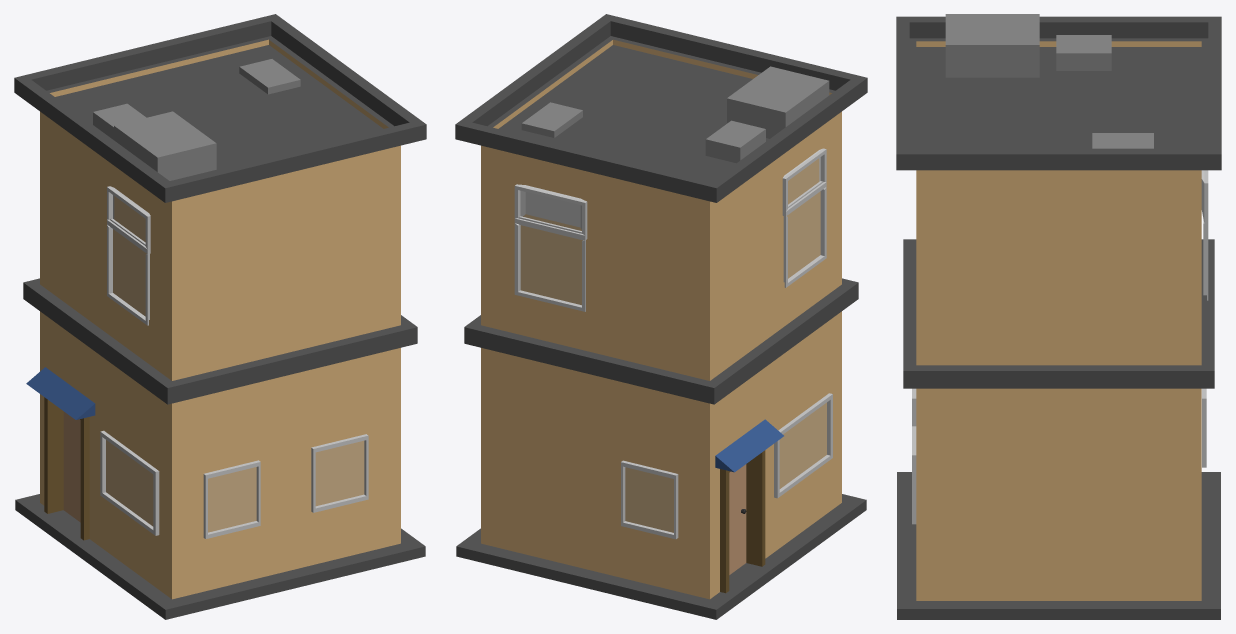
File: Haus - Hoch 2.gltf
3 renders of one model, left to right at view 1: azimuth 30°, elevation 25°; view 2: azimuth 150°, elevation 25°; view 3: azimuth 270°, elevation 25°, orthographic. The views are drawn at different scales.
Visible parts, largest first — view 1: Haus - Hoch; view 2: Haus - Hoch; view 3: Haus - Hoch.
Boxes of the visible parts, x1,y1,x2,y2 form: Haus - Hoch: (14,14,426,619); Haus - Hoch: (455,14,867,619); Haus - Hoch: (896,14,1221,619).
Bounding box in the file's own units: 12.41 × 19.82 × 12.26.
